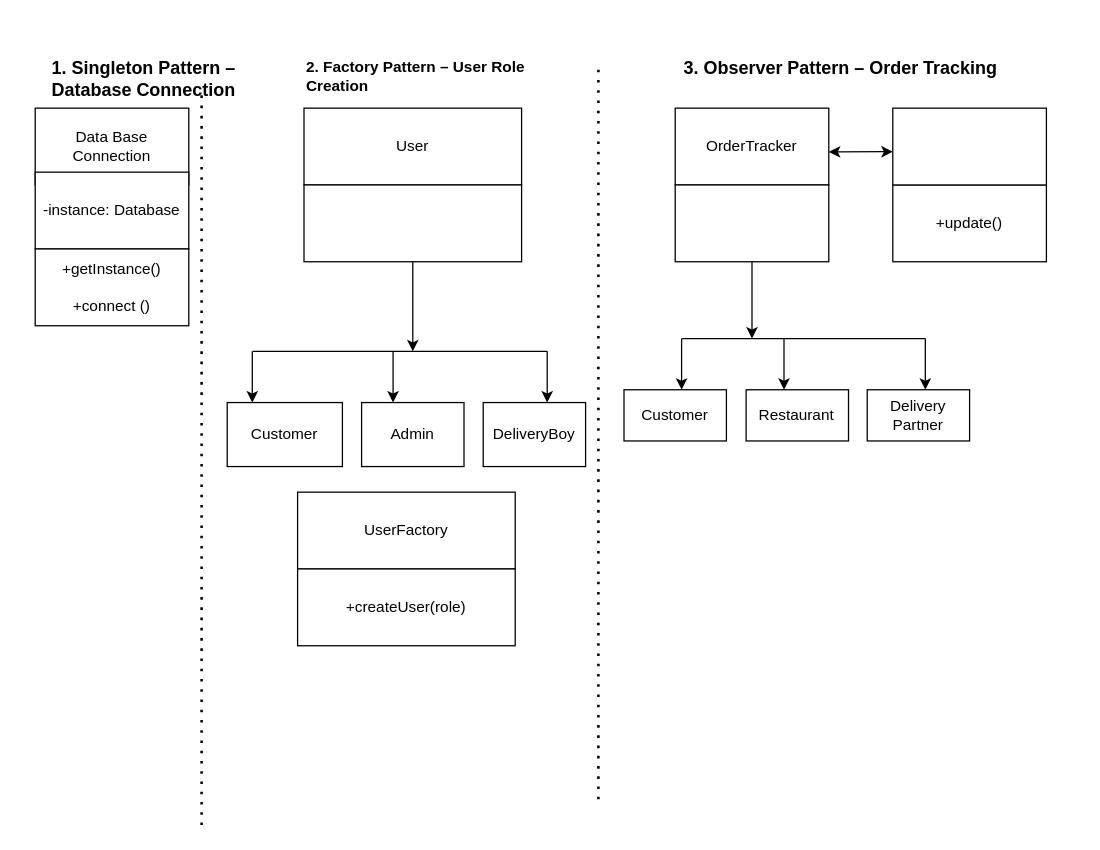
This 1100x850 diagram has some shape labels left out. The centre of each missing label's shape, as x and y in pixels:
"+register() +notifyAll() +statusChange()" goes at pixel 751 223.
"+showRole()" goes at pixel 412 223.
"Observer" goes at pixel 969 146.
